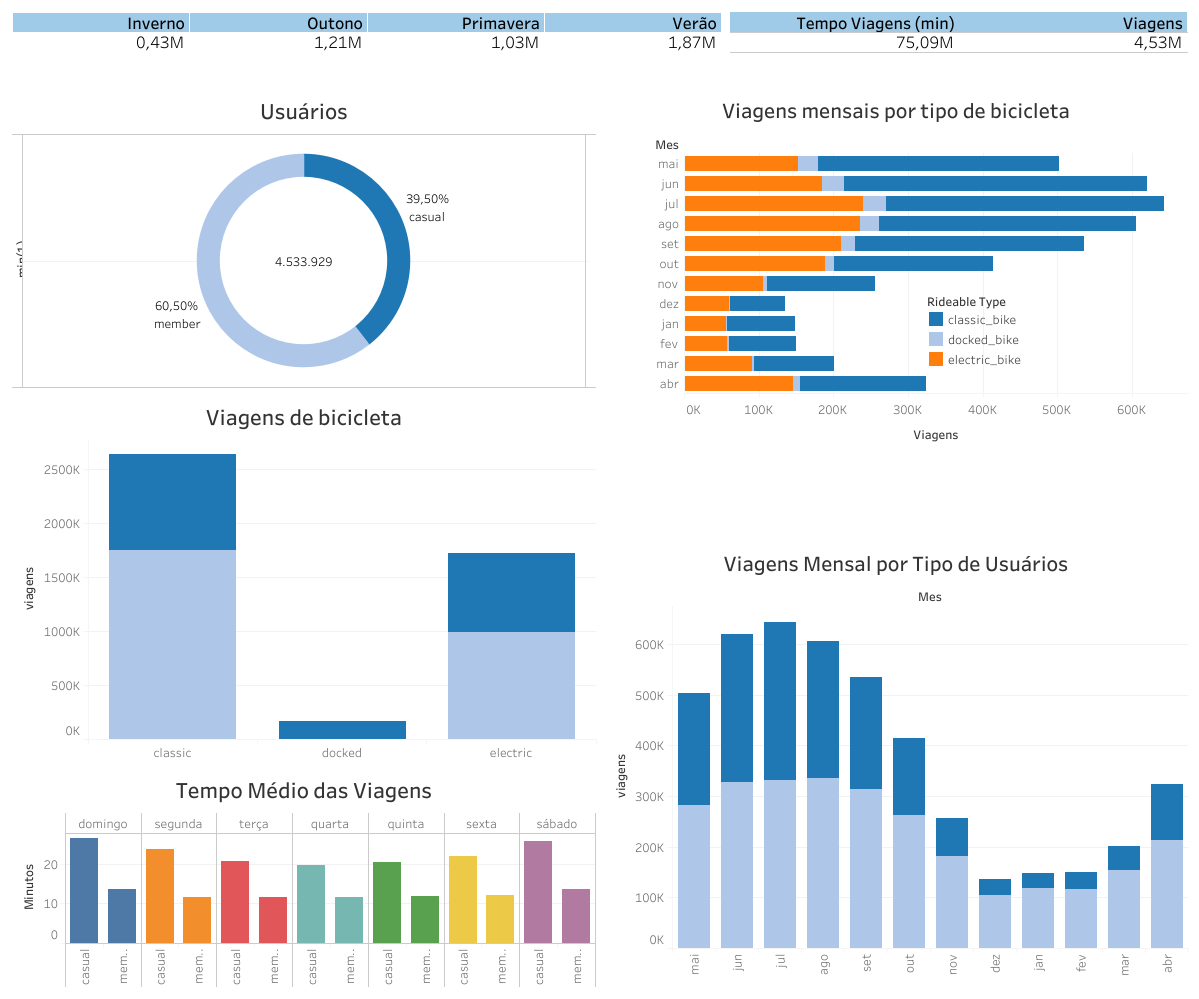

Layout of this report page (visuals, bound fields, positions):
{"tool":"tableau","page":{"name":"Painel 1","canvas":[1000,800],"ordinal":0},"visuals":[{"type":"worksheet","title":"estacao","mark":"Automatic","cols":["estacao"],"box":[8,8,412,67]},{"type":"worksheet","title":"resumo","mark":"Automatic","box":[420,8,412,67]},{"type":"worksheet","title":"usuario","mark":"Automatic","box":[832,8,160,784]},{"type":"worksheet","title":"tipo bicicleta","mark":"Automatic","rows":["Calculation_530861822133109140"],"cols":["rideable_type"],"box":[8,75,412,358.5]},{"type":"worksheet","title":"mensal bicicleta","mark":"Automatic","rows":["mes"],"cols":["Calculation_530861822133109140"],"box":[420,75,412,358.5]},{"type":"legend","title":"usuario","param":"[federated.0bhb45r0e9x7ih1dtcak60dqbag4].[none:member_casual:nk]","box":[261,162,152,59]},{"type":"legend","title":"mensal bicicleta","param":"[federated.0bhb45r0e9x7ih1dtcak60dqbag4].[none:rideable_type:nk]","box":[684,275,152,79]},{"type":"worksheet","title":"Viagens semana","mark":"Automatic","rows":["dia_da_semana"],"cols":["Calculation_530861822133109140"],"box":[8,433.5,412,358.5]},{"type":"worksheet","title":"viagens mensal","mark":"Automatic","rows":["Calculation_530861822133109140"],"cols":["mes"],"box":[420,433.5,412,358.5]}]}

Visuals, with their boxes on the page's 1000x800 design canvas (x1, y1, x2, y2). These are canvas units, not pixel positions in the 1199x999 screenshot, which may show the page scaled, cropped or inside an application window:
"estacao" worksheet: (8,8,420,75)
"resumo" worksheet: (420,8,832,75)
"usuario" worksheet: (832,8,992,792)
"tipo bicicleta" worksheet: (8,75,420,434)
"mensal bicicleta" worksheet: (420,75,832,434)
"usuario" legend: (261,162,413,221)
"mensal bicicleta" legend: (684,275,836,354)
"Viagens semana" worksheet: (8,434,420,792)
"viagens mensal" worksheet: (420,434,832,792)
